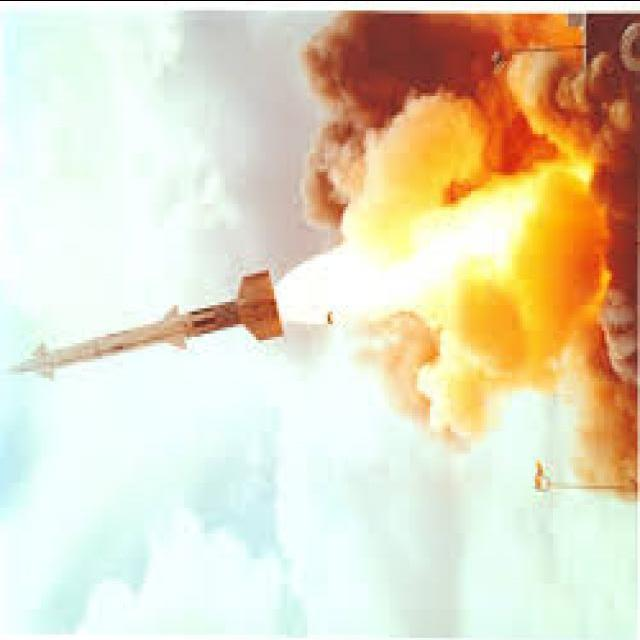missile: (0, 263, 292, 380)
